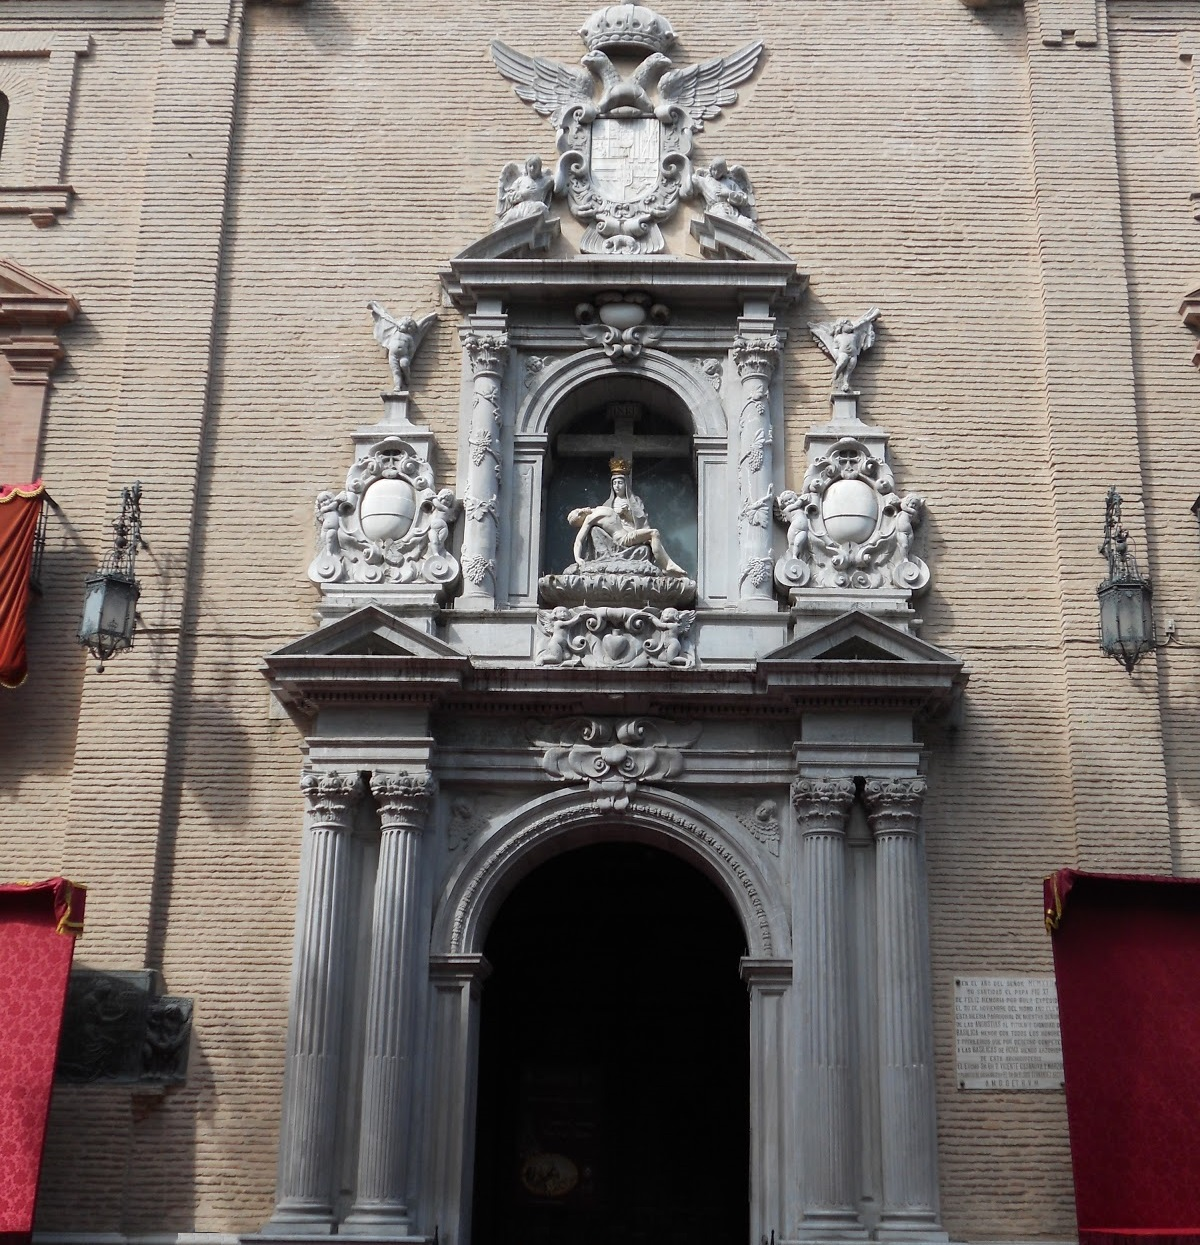arco-medio-punto: (456, 803, 766, 1012), (530, 363, 713, 472)
fronton: (267, 606, 474, 696), (760, 606, 974, 688)
fronton-partido: (448, 209, 804, 293)
